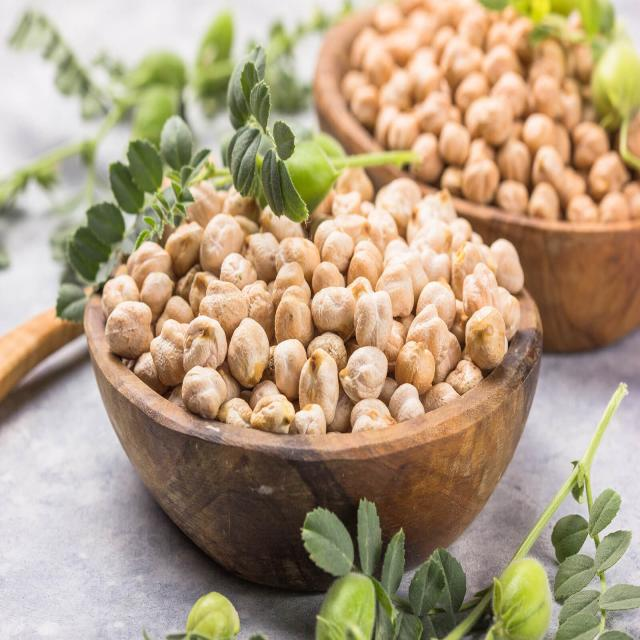garbanzos: (74, 125, 545, 447)
